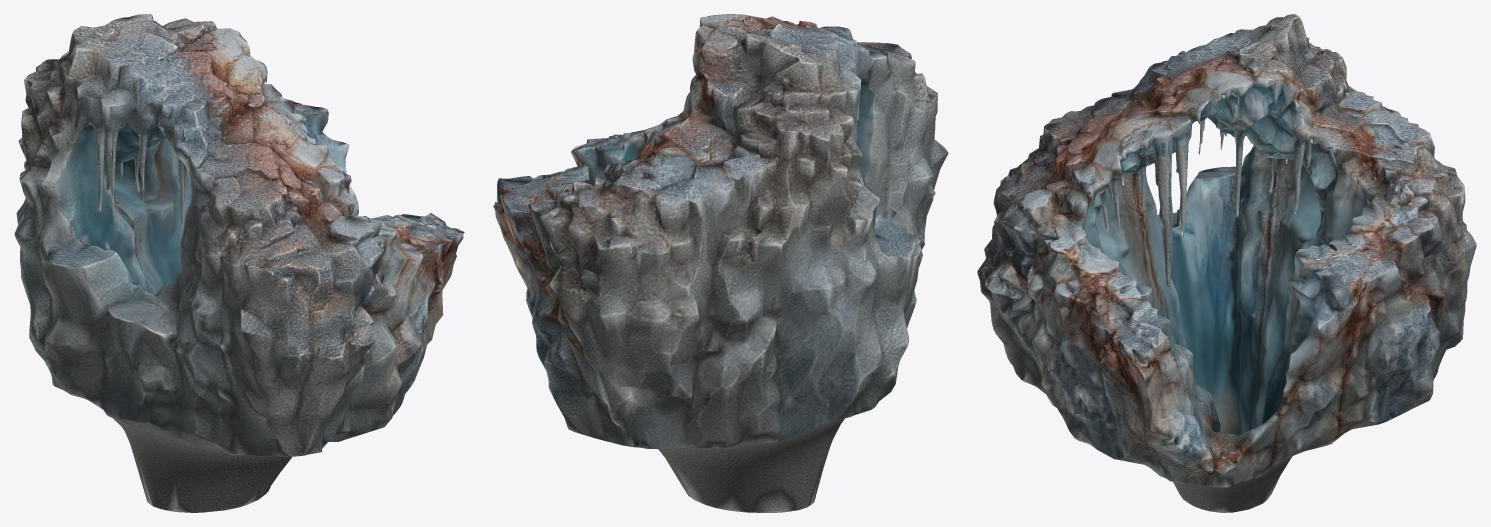
The model's file is europa-crevasse.glb.
3 renders of one model, left to right at view 1: azimuth 30°, elevation 25°; view 2: azimuth 150°, elevation 25°; view 3: azimuth 270°, elevation 25°, orthographic. The views are drawn at different scales.
Parts seen in each view (by area): view 1: tripo_node_0281510b-5c6c-4631-8f92-2d86244de4e0; view 2: tripo_node_0281510b-5c6c-4631-8f92-2d86244de4e0; view 3: tripo_node_0281510b-5c6c-4631-8f92-2d86244de4e0.
Boxes of the visible parts, x1=… form: tripo_node_0281510b-5c6c-4631-8f92-2d86244de4e0: x1=14, y1=14, x2=464, y2=512; tripo_node_0281510b-5c6c-4631-8f92-2d86244de4e0: x1=493, y1=14, x2=948, y2=512; tripo_node_0281510b-5c6c-4631-8f92-2d86244de4e0: x1=977, y1=14, x2=1476, y2=512.
Bounding box in the file's own units: 0.8032 × 0.9562 × 0.9998.
Materials: 1 (1 with a texture image).
